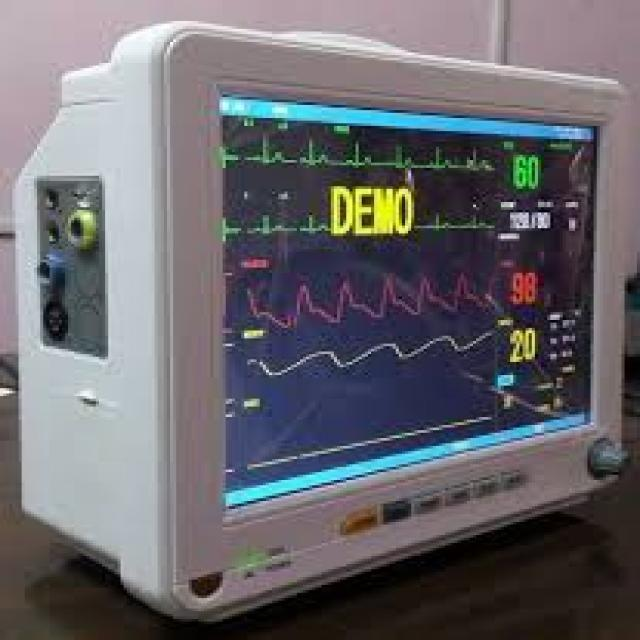cardiac_monitor: (69, 31, 633, 583)
